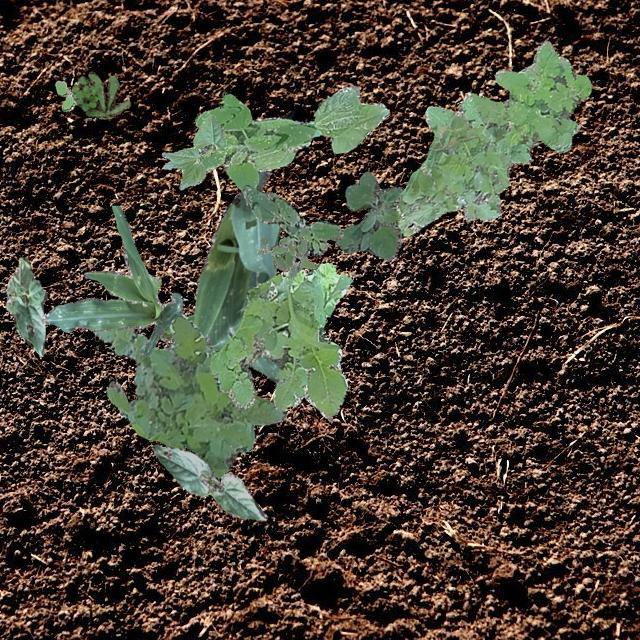crop: (158, 110, 292, 382), (40, 205, 182, 356), (222, 86, 388, 170), (150, 444, 266, 520), (160, 114, 224, 188), (5, 256, 46, 354)
weed: (396, 39, 590, 236), (92, 314, 286, 478), (208, 262, 352, 419), (194, 92, 316, 190), (242, 184, 342, 268), (334, 170, 402, 260), (72, 70, 130, 118), (256, 234, 316, 278), (54, 80, 78, 110)
